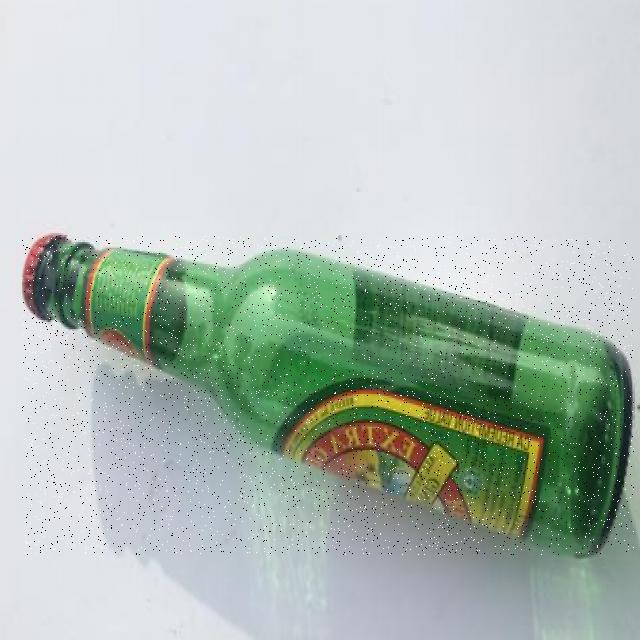glass: (23, 236, 634, 555)
